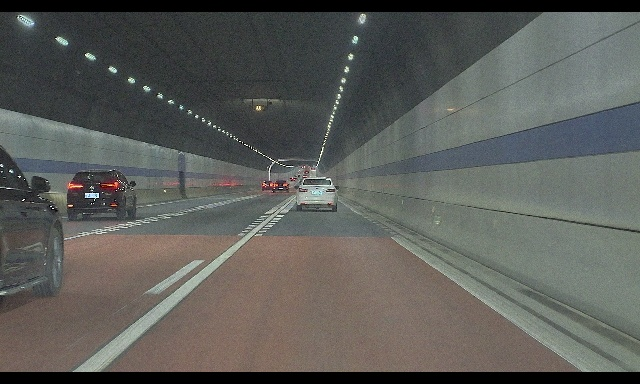car: (0, 146, 64, 297), (66, 168, 137, 220), (294, 177, 340, 212), (273, 180, 290, 193), (262, 181, 275, 191)
